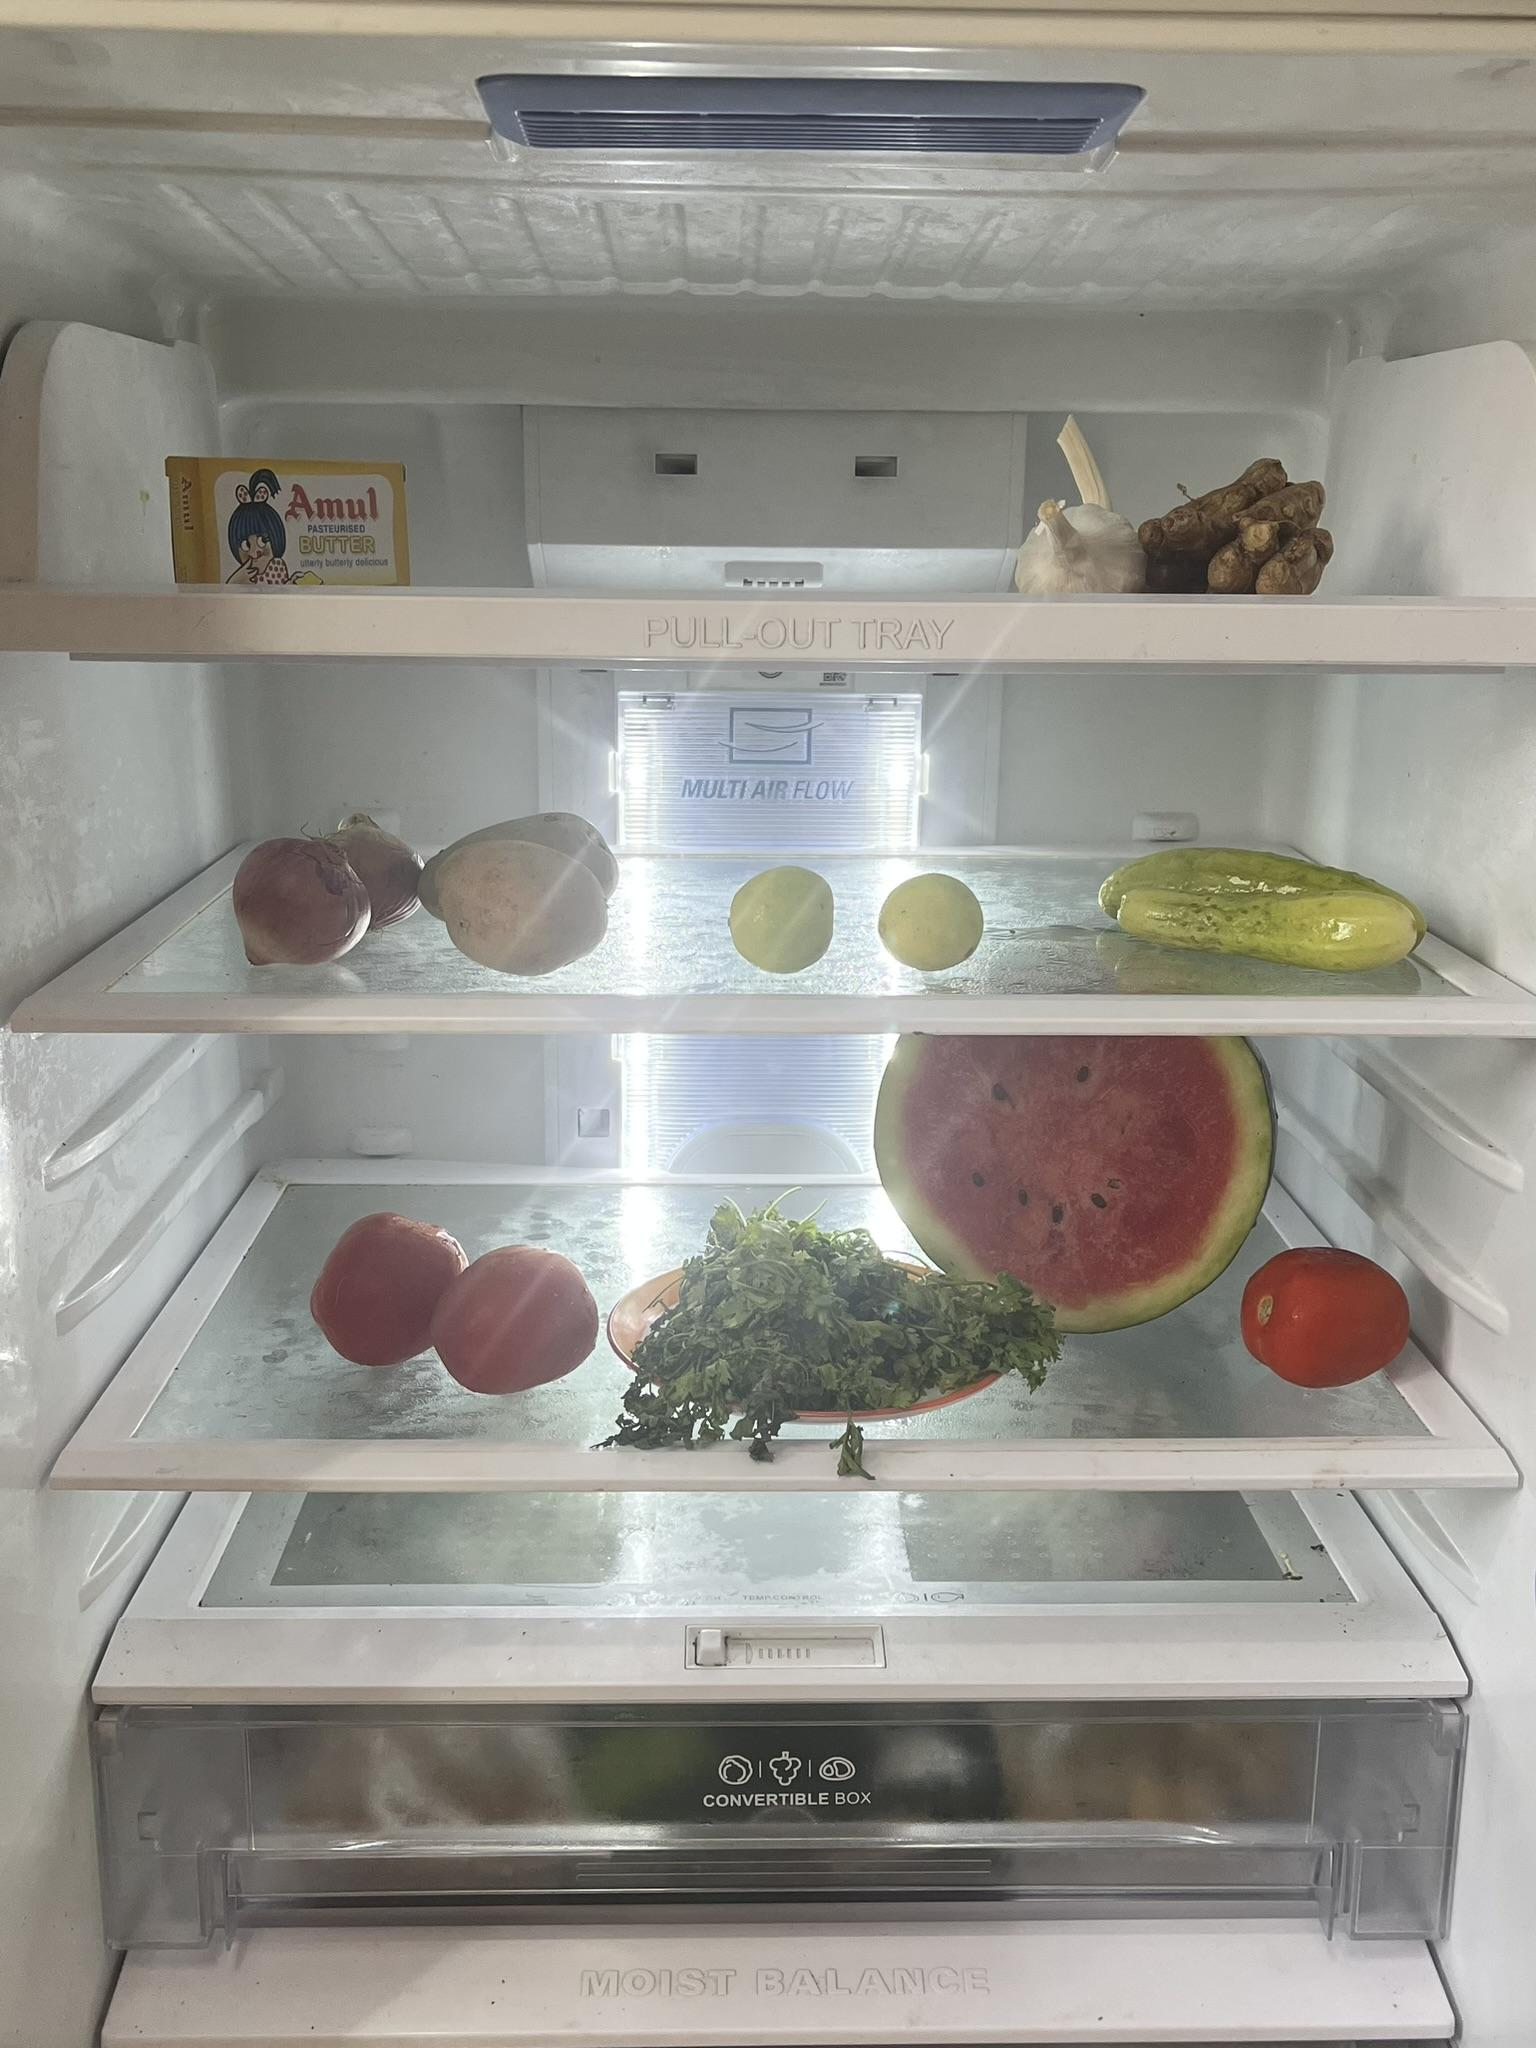butter: (171, 442, 397, 589)
coriander: (632, 1201, 1054, 1450)
cucumber: (1102, 842, 1438, 969)
garlic: (1012, 402, 1131, 585)
ginger: (1157, 471, 1344, 592)
lemon: (887, 872, 987, 969), (741, 866, 828, 959)
onion: (255, 811, 421, 950)
potato: (424, 806, 621, 972)
tomato: (321, 1201, 594, 1387), (1236, 1251, 1428, 1400)
watermelon: (878, 1022, 1292, 1316)
